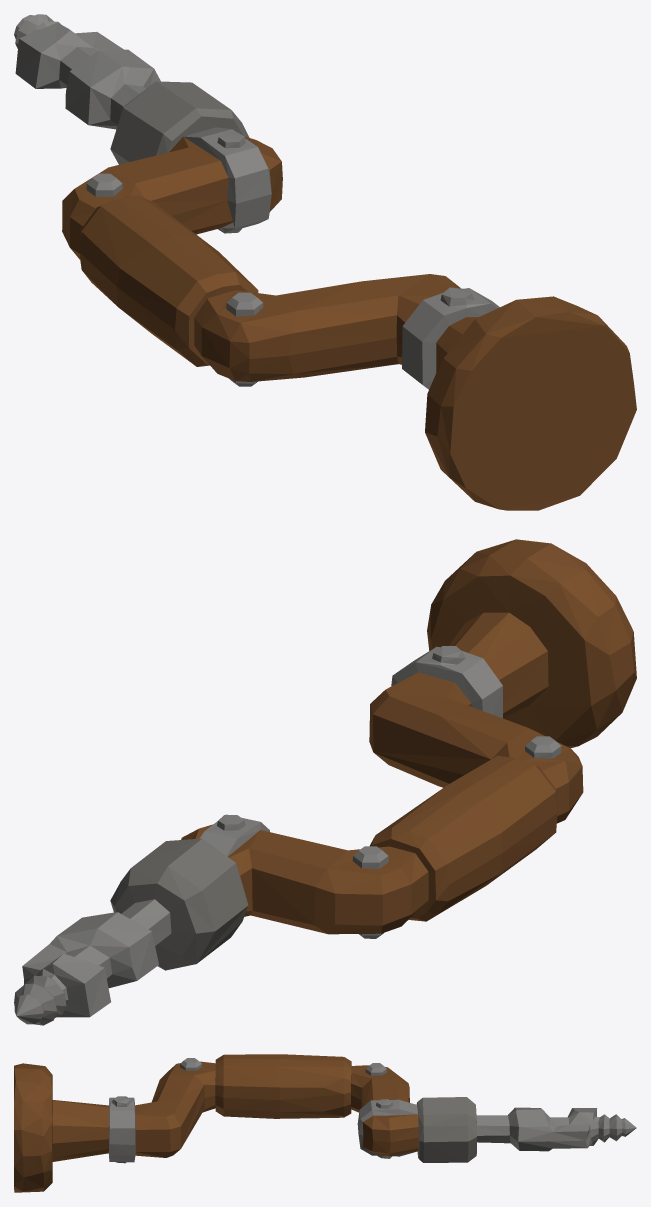
File: CrankHandDrill.fbx
The picture shows the model from 3 angles, top to bottom: view 1: azimuth 30°, elevation 25°; view 2: azimuth 150°, elevation 25°; view 3: azimuth 270°, elevation 25°; orthographic projection. The views are drawn at different scales.
Visible parts, largest first — view 1: CrankHandDrill; view 2: CrankHandDrill; view 3: CrankHandDrill.
Part boxes in pixels (x1,y1,x2,y2): CrankHandDrill: (14, 14, 636, 510); CrankHandDrill: (14, 539, 636, 1025); CrankHandDrill: (14, 1054, 636, 1192).
Bounding box in the file's own units: 0.1332 × 0.421 × 0.0871.
